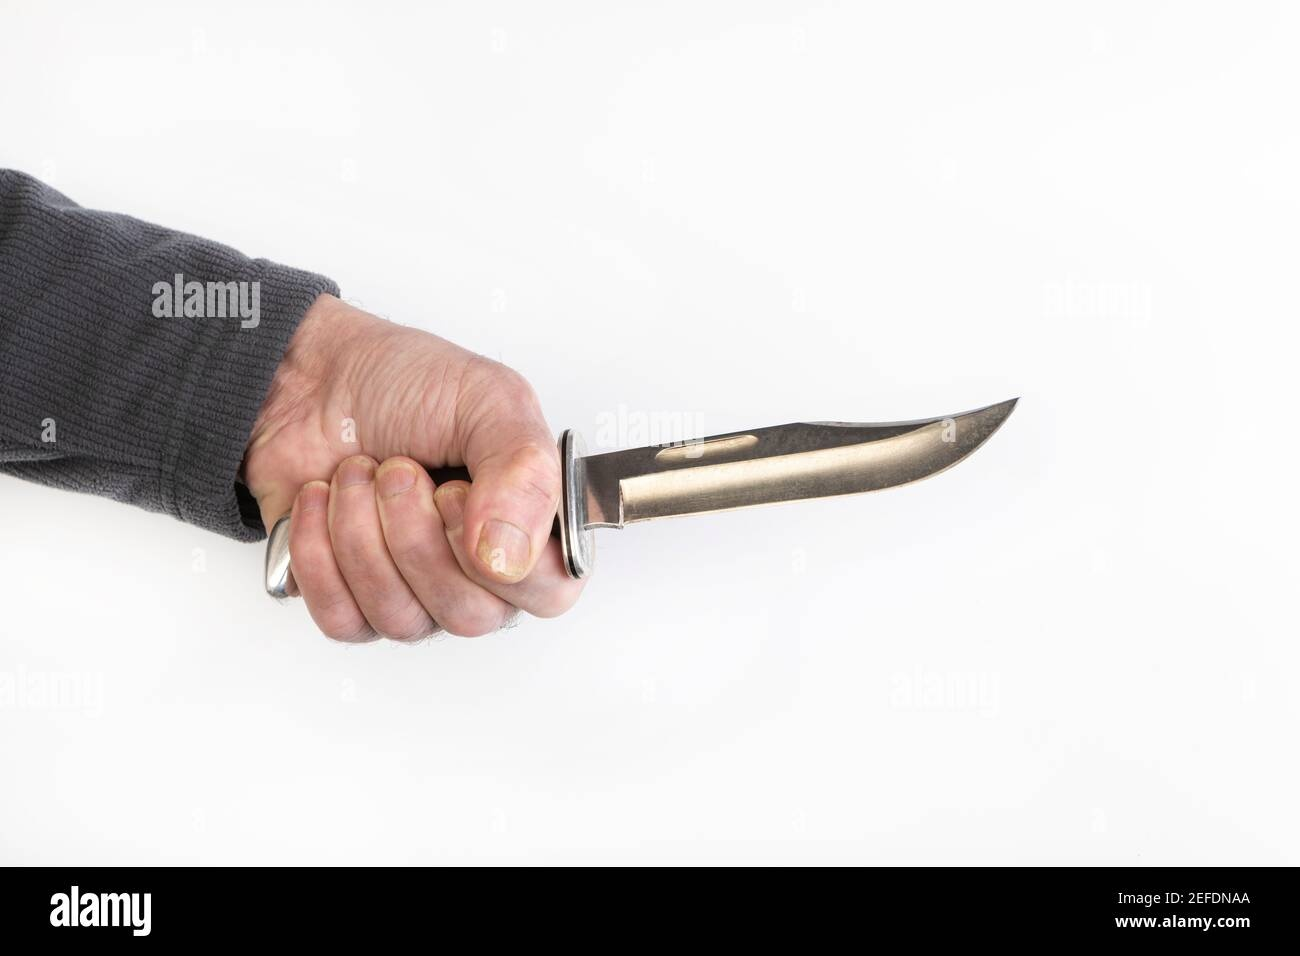knife: (265, 397, 1021, 597)
